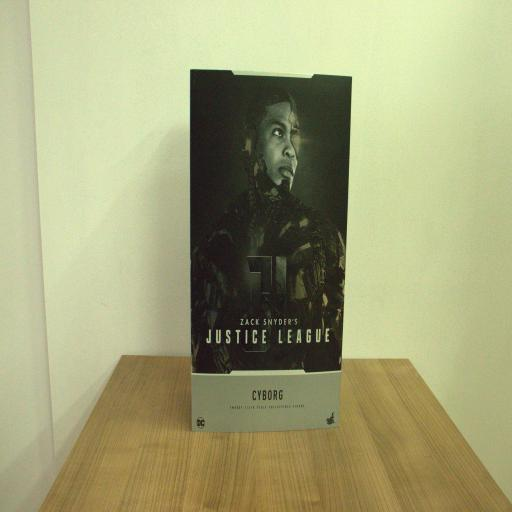Cyborg: (188, 67, 353, 431)
